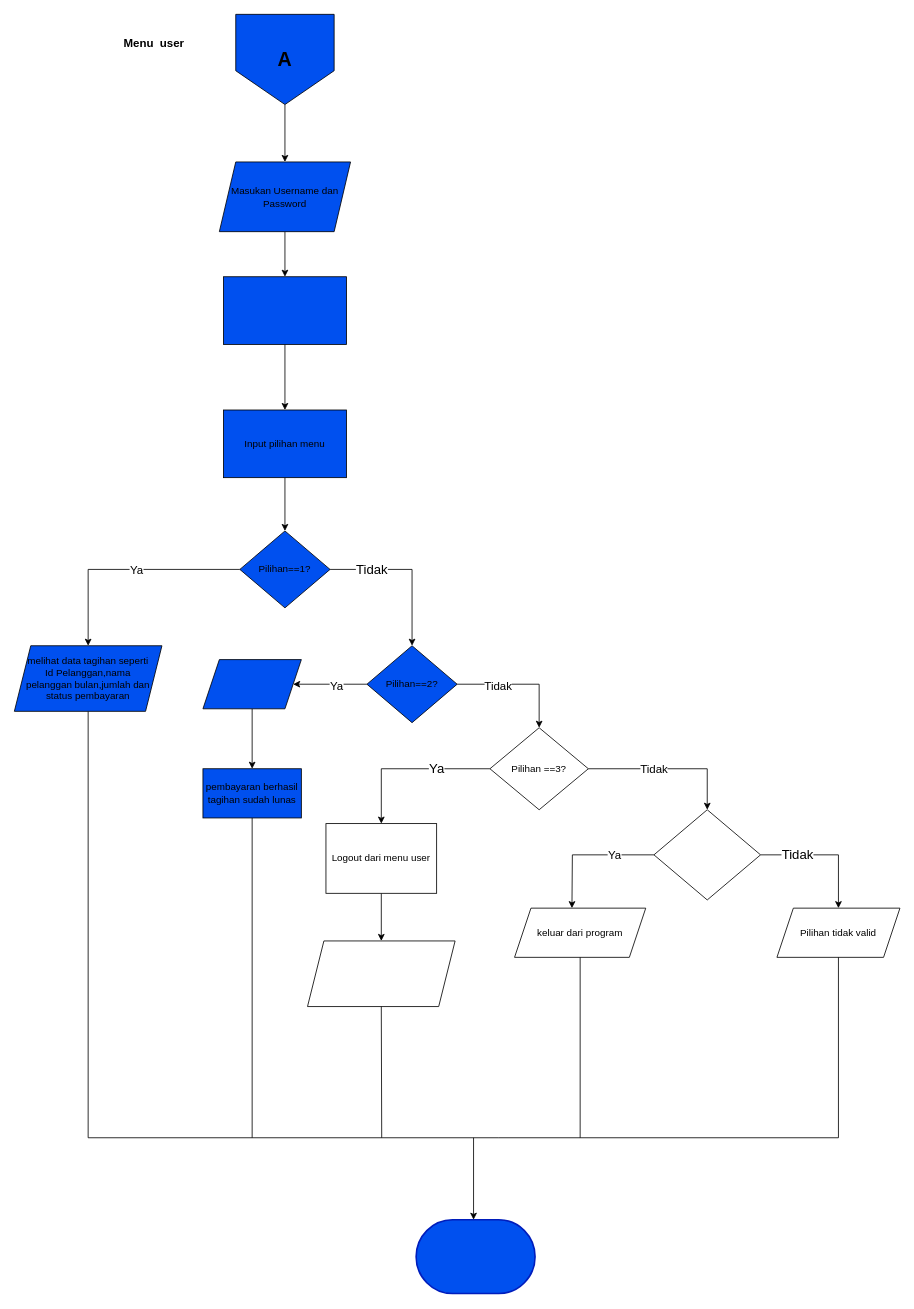
Image size: 914x1309. Some labels were removed from this diagram. The box of each missing label's shape, as (x1, y1, x2, y2) in pixels:
masukan id pelanggan: (202, 659, 301, 709)
masukan username masukan password: (307, 940, 455, 1007)
Pilihan ==6?: (653, 809, 761, 900)
Selesai: (415, 1219, 535, 1294)
Tampilkan Menu 1. Lihat Data Tagihan 2. Bayar Tagihan 3. Logout 4. keluar: (223, 276, 346, 344)
